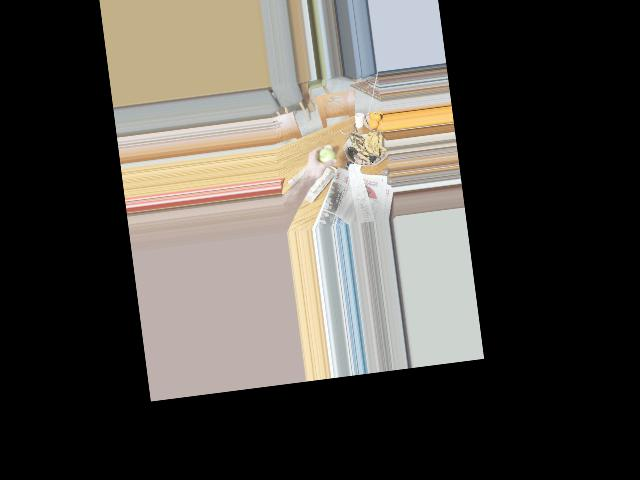apple: (314, 146, 336, 167)
